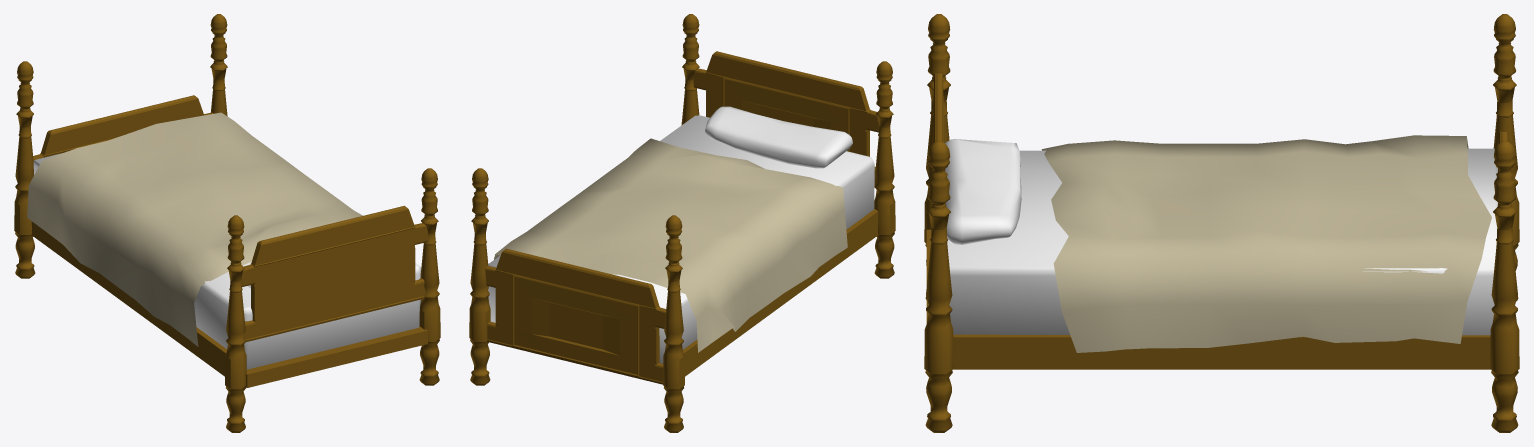
Rendered from R_Cama.fbx.
3 renders of one model, left to right at view 1: azimuth 30°, elevation 25°; view 2: azimuth 150°, elevation 25°; view 3: azimuth 270°, elevation 25°, orthographic. The views are drawn at different scales.
Parts seen in each view (by area): view 1: Somier, Manta, Colchon; view 2: Somier, Manta, Colchon, Pillow; view 3: Manta, Somier, Colchon, Pillow.
Part boxes in pixels (x1,y1,x2,y2): Somier: (14, 14, 440, 432); Manta: (27, 112, 362, 346); Colchon: (33, 153, 421, 369); Somier: (469, 14, 895, 432); Manta: (494, 138, 847, 352); Colchon: (488, 115, 874, 363); Pillow: (705, 106, 852, 168); Manta: (1041, 135, 1491, 352); Somier: (924, 14, 1519, 432); Colchon: (947, 148, 1497, 335); Pillow: (945, 139, 1021, 244).
Size of the model in its own units: 41.91 by 40.32 by 75.28.
